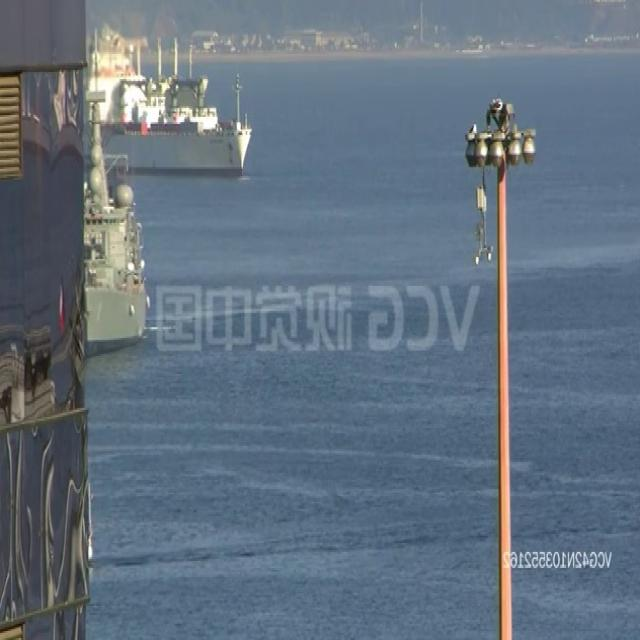navalvessels: (78, 32, 258, 180), (80, 46, 150, 352)
